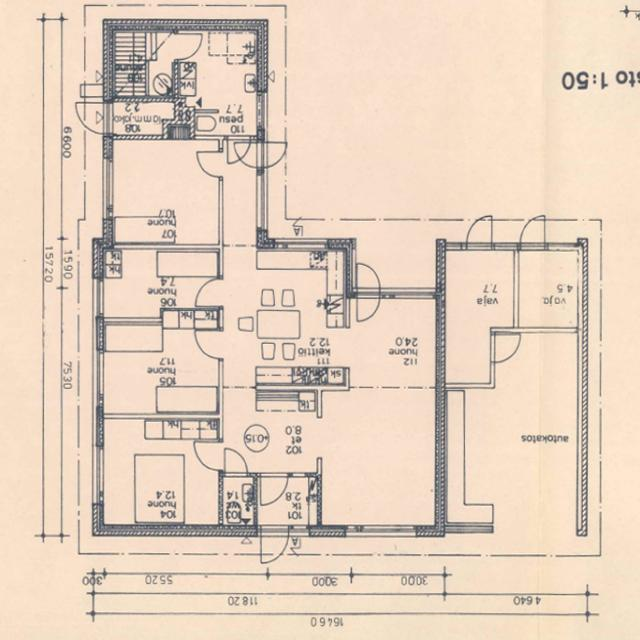door: (261, 526, 289, 567), (75, 103, 112, 133), (260, 473, 288, 507), (466, 212, 491, 250), (520, 213, 544, 250), (256, 142, 290, 168), (234, 142, 268, 168), (192, 443, 223, 470), (193, 331, 223, 358), (193, 279, 223, 306), (357, 289, 380, 323), (357, 264, 380, 298), (490, 336, 520, 362), (195, 152, 223, 177), (174, 34, 201, 59), (228, 135, 250, 165), (225, 449, 248, 477)
